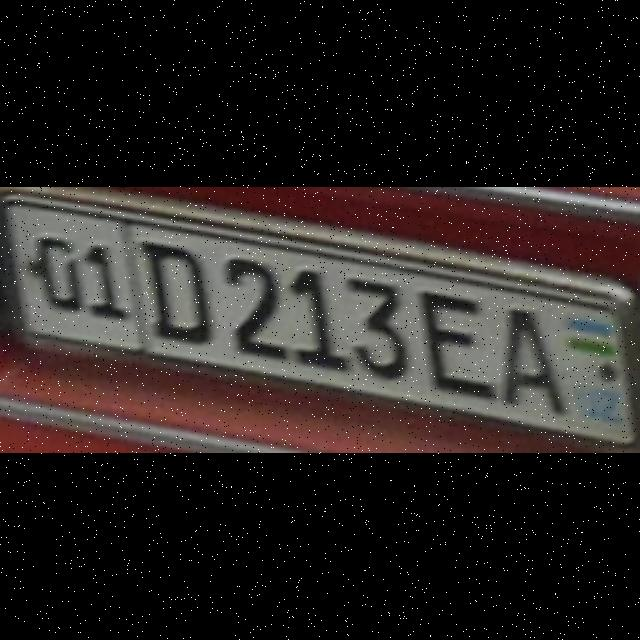0: (32, 234, 80, 308)
1: (282, 267, 344, 371), (80, 236, 126, 320)
2: (220, 252, 286, 354)
3: (347, 274, 408, 376)
A: (494, 306, 562, 414)
D: (141, 234, 209, 342)
E: (416, 288, 489, 396)
